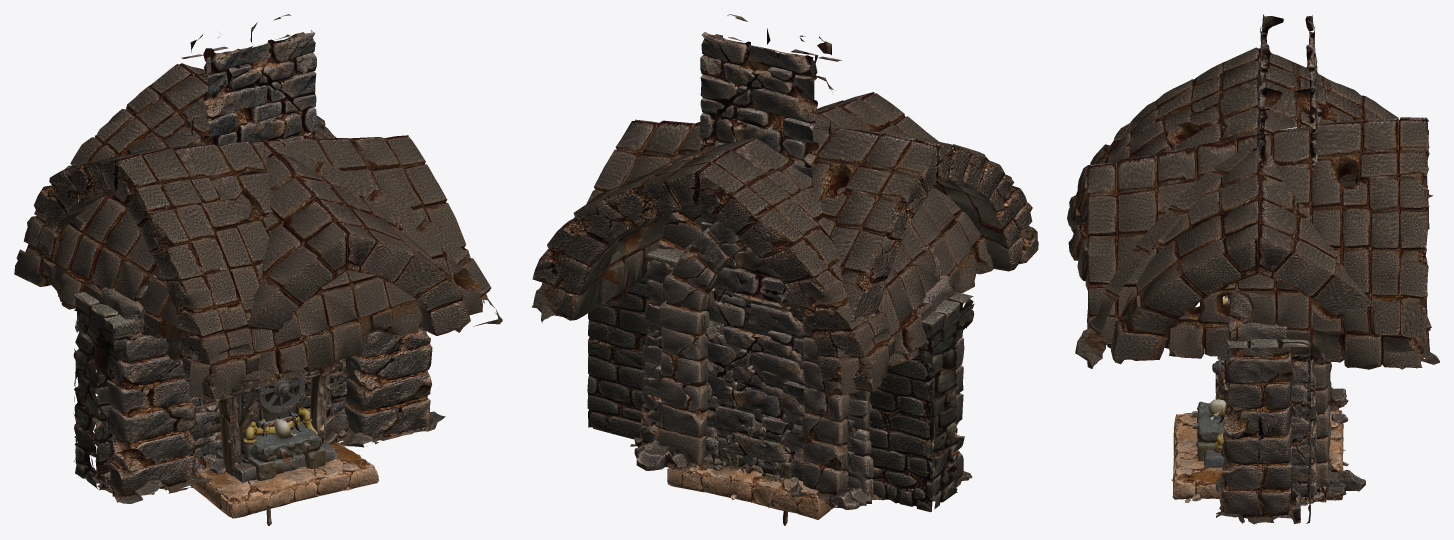
File: brick_kit.glb
3 views of the same model, side by side, from view 1: azimuth 30°, elevation 25°; view 2: azimuth 150°, elevation 25°; view 3: azimuth 270°, elevation 25° (orthographic). The views are drawn at different scales.
Visible parts, largest first — view 1: vault_corner, vault_cross, arch, pier_face, prison_frieze, vault_sky, floor_notch, prison_generator, wood_support, floor, morgue_slab, wall_cage (+2 smaller); view 2: vault_corner, vault_cross, prison_frieze, pier_face, door, vault_sky, wall, wall_top, wall_niche, arch, floor_notch, floor (+3 smaller); view 3: vault_corner, vault_cross, vault_sky, arch, pier_face, vault_straight, door, floor_notch, wall, floor, prison_frieze, morgue_slab (+4 smaller).
Part boxes in pixels (x1,y1,x2,y2): vault_corner: [14, 63, 482, 399]; vault_cross: [33, 137, 502, 382]; arch: [84, 273, 445, 503]; pier_face: [178, 14, 317, 460]; prison_frieze: [73, 292, 427, 490]; vault_sky: [63, 63, 435, 341]; floor_notch: [190, 448, 378, 518]; prison_generator: [216, 370, 335, 482]; wood_support: [215, 358, 346, 475]; floor: [190, 442, 378, 518]; morgue_slab: [240, 418, 325, 480]; wall_cage: [190, 365, 349, 473]; vault_corner: [534, 119, 1038, 392]; vault_cross: [798, 92, 1029, 395]; prison_frieze: [587, 248, 974, 512]; pier_face: [700, 14, 841, 482]; door: [634, 221, 861, 509]; vault_sky: [532, 96, 981, 356]; wall: [630, 260, 877, 499]; wall_top: [642, 322, 870, 486]; wall_niche: [641, 292, 870, 481]; arch: [659, 205, 972, 503]; floor_notch: [667, 467, 832, 519]; floor: [667, 465, 834, 519]; vault_corner: [1067, 117, 1439, 364]; vault_cross: [1075, 47, 1433, 368]; vault_sky: [1087, 117, 1428, 369]; arch: [1215, 284, 1300, 524]; pier_face: [1256, 14, 1321, 178]; vault_straight: [1158, 133, 1341, 361]; door: [1314, 361, 1365, 496]; floor_notch: [1172, 410, 1348, 502]; wall: [1291, 354, 1326, 505]; floor: [1171, 410, 1346, 502]; prison_frieze: [1227, 296, 1311, 524]; morgue_slab: [1196, 399, 1225, 461].
Bounding box in the file's own units: 6.76 × 9.35 × 6.58.
21 materials, 20 textured.
